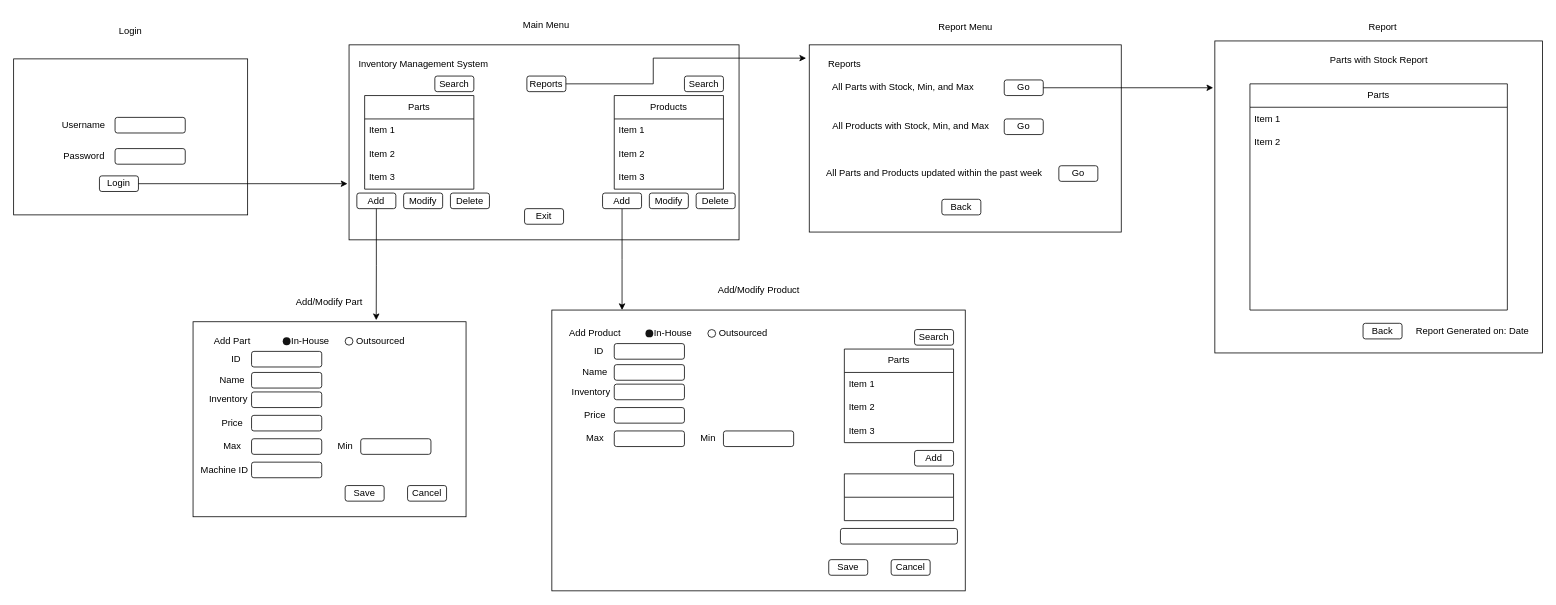
Some shapes in this 1556 by 605 pixel diagram are drawn without their labels. The box of each missing label's shape, as (x1, y1, x2, y2) in pixels:
Associated Parts: (844, 473, 954, 521)
Remove Associated Part: (840, 528, 957, 544)
